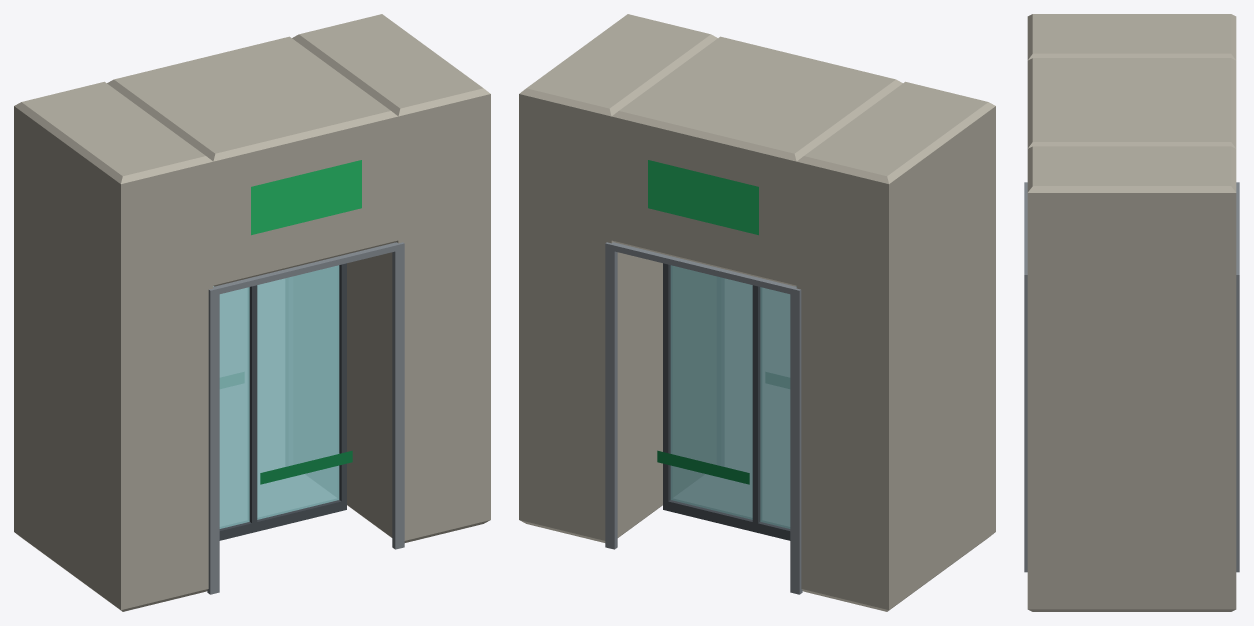
Rendered from door.fbx.
3 views of the same model, side by side, from view 1: azimuth 30°, elevation 25°; view 2: azimuth 150°, elevation 25°; view 3: azimuth 270°, elevation 25° (orthographic). The views are drawn at different scales.
Visible parts, largest first — view 1: door, Door; view 2: door, Door; view 3: door.
Boxes of the visible parts, left/top/right/bottom form: door: left=14, top=14, right=490, bottom=611; Door: left=213, top=263, right=346, bottom=540; door: left=519, top=14, right=995, bottom=611; Door: left=663, top=263, right=796, bottom=540; door: left=1024, top=14, right=1239, bottom=611.
Bounding box in the file's own units: 4 × 4.5 × 2.06.
